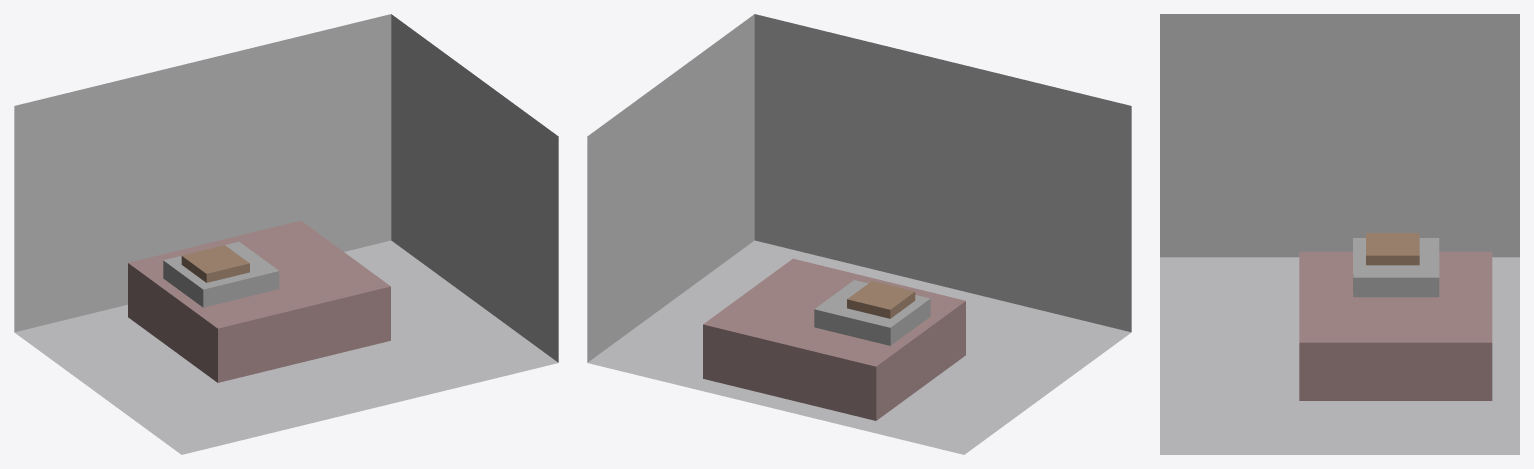
File: current_layout.glb
3 views of the same model, side by side, from view 1: azimuth 30°, elevation 25°; view 2: azimuth 150°, elevation 25°; view 3: azimuth 270°, elevation 25° (orthographic). The views are drawn at different scales.
Parts seen in each view (by area): view 1: room, bed, studyTable, chair, bookShelf; view 2: room, bed, chair, studyTable, tableLamp, bookShelf; view 3: room, bed, bookShelf, chair.
Part boxes in pixels (box(x1,y1,x2,y2)): room: box(14, 14, 558, 454); bed: box(128, 220, 390, 382); studyTable: box(163, 243, 272, 307); chair: box(181, 245, 249, 282); bookShelf: box(200, 241, 279, 290); room: box(587, 14, 1131, 454); bed: box(703, 258, 965, 420); chair: box(847, 281, 915, 318); studyTable: box(821, 295, 930, 345); tableLamp: box(821, 295, 919, 345); bookShelf: box(814, 280, 920, 328); room: box(1160, 14, 1519, 454); bed: box(1299, 251, 1492, 400); bookShelf: box(1353, 241, 1439, 297); chair: box(1366, 233, 1419, 265).
Size of the model in its own units: 4.36 by 2.5 by 3.35.
